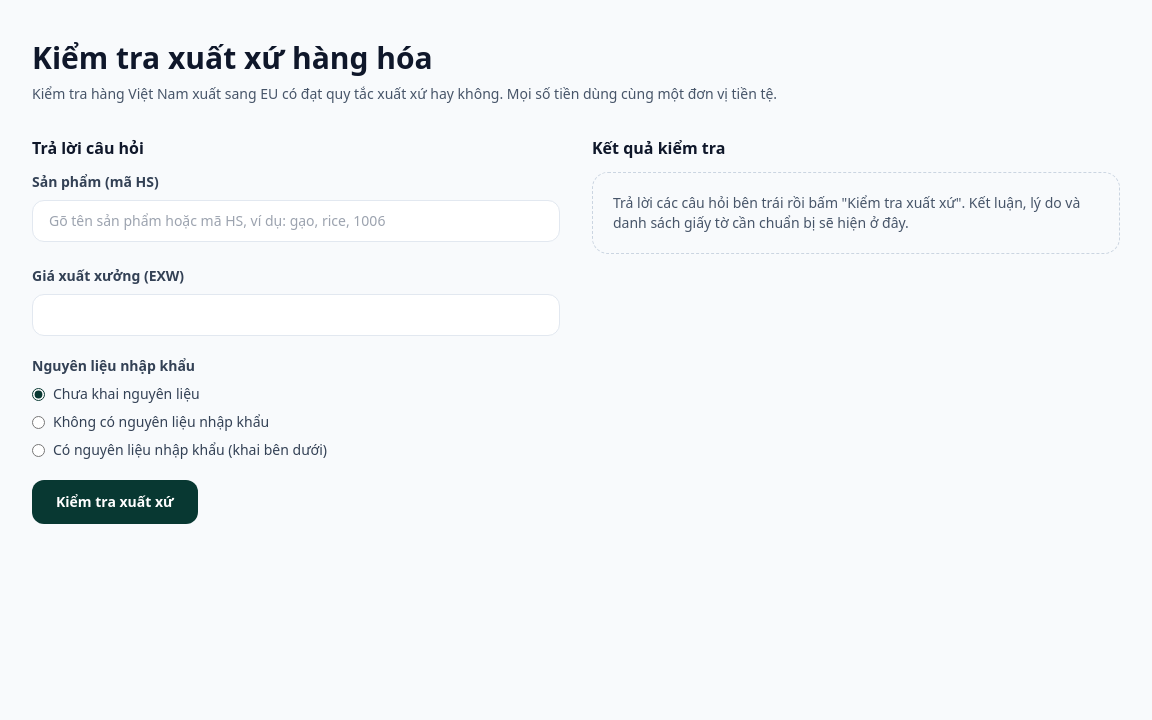
Test: Máy tính quy tắc xuất xứ (C4) › không có nguyên liệu nhập khẩu: materials_declared=true và danh sách rỗng
Type "ca phe" into the dropdown labelled "Sản phẩm (mã HS)" at point(296, 221), box [32, 200, 560, 242]
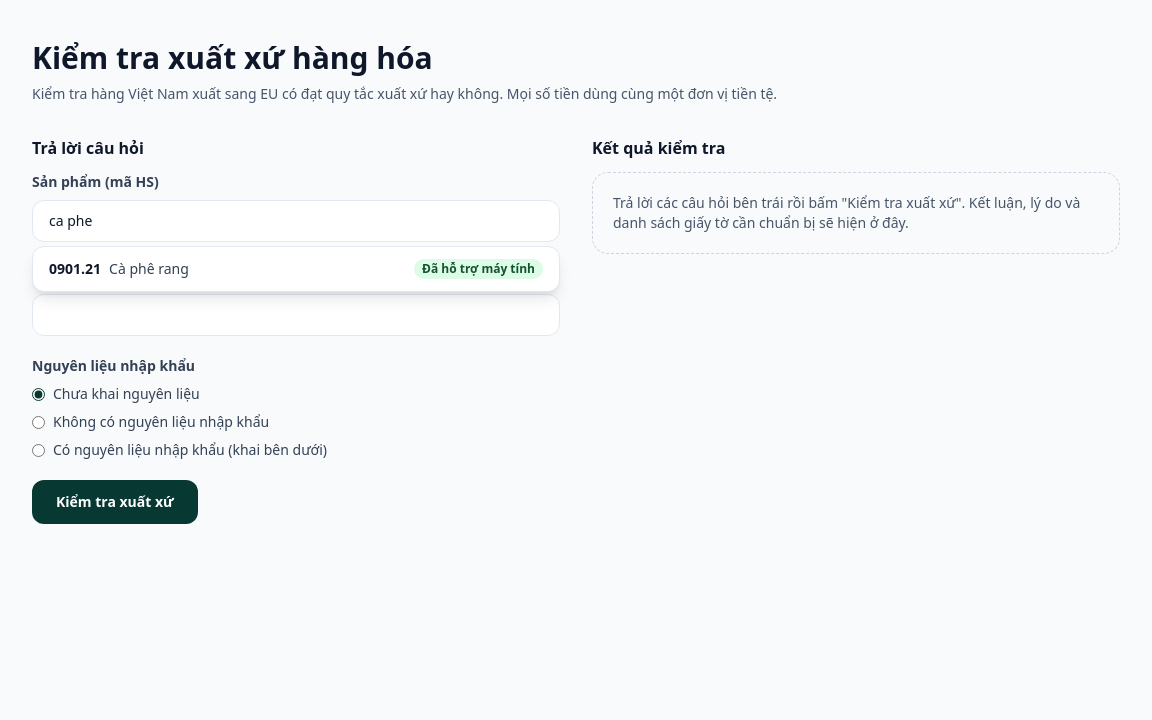
Click the option "0901.21Cà phê rang Đã hỗ trợ máy tính" at point(75, 268), box [49, 259, 543, 279]
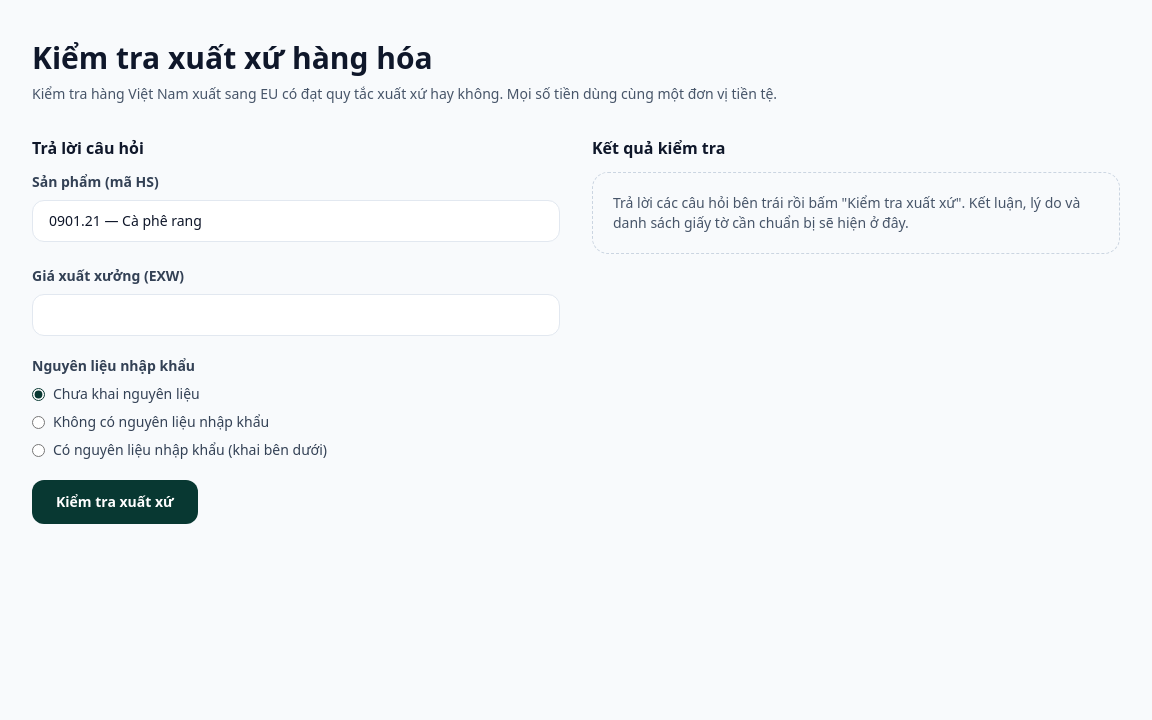
Type "1000" into the field labelled "Giá xuất xưởng (EXW)" at point(296, 315), box [32, 294, 560, 336]
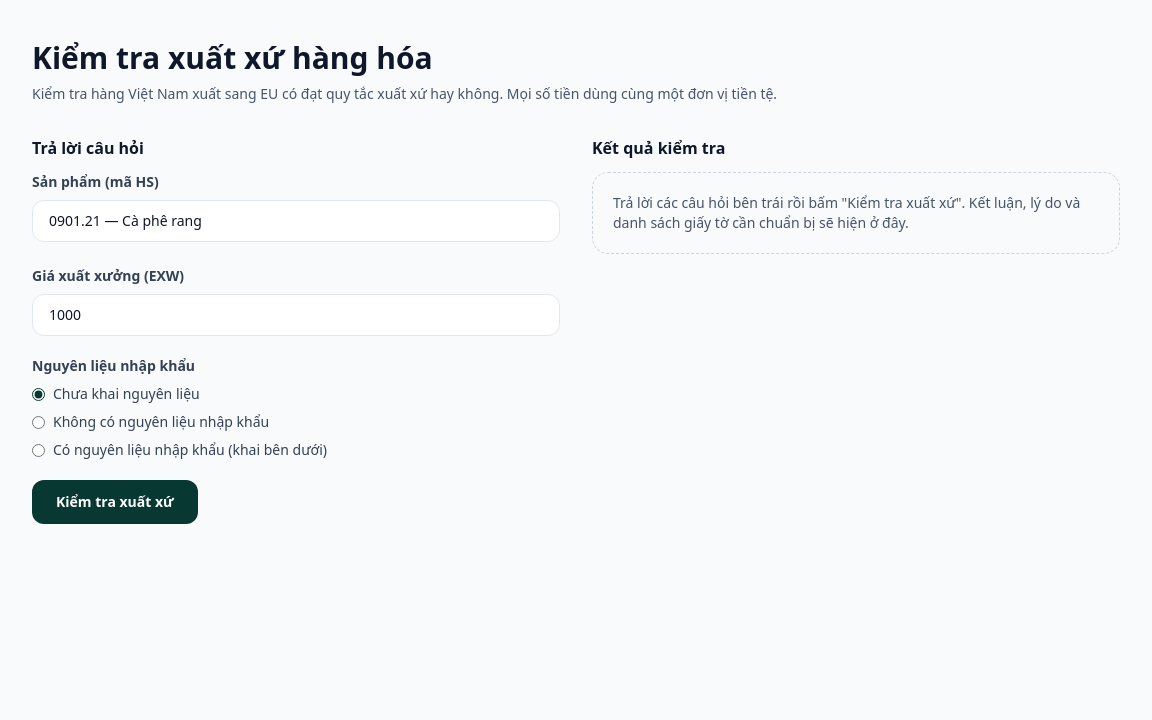
Click the radio button labelled "Không có nguyên liệu nhập khẩu" at point(38, 422), box [32, 416, 45, 428]
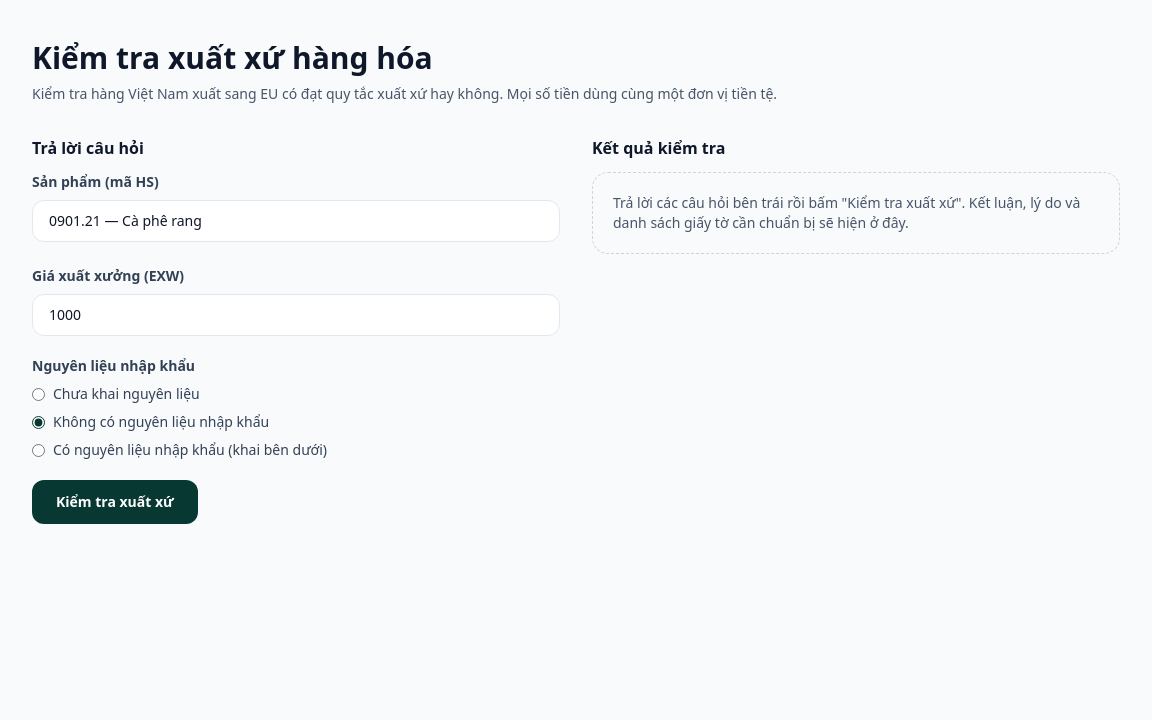
Click the button "Kiểm tra xuất xứ" at point(115, 502), box [32, 480, 198, 524]
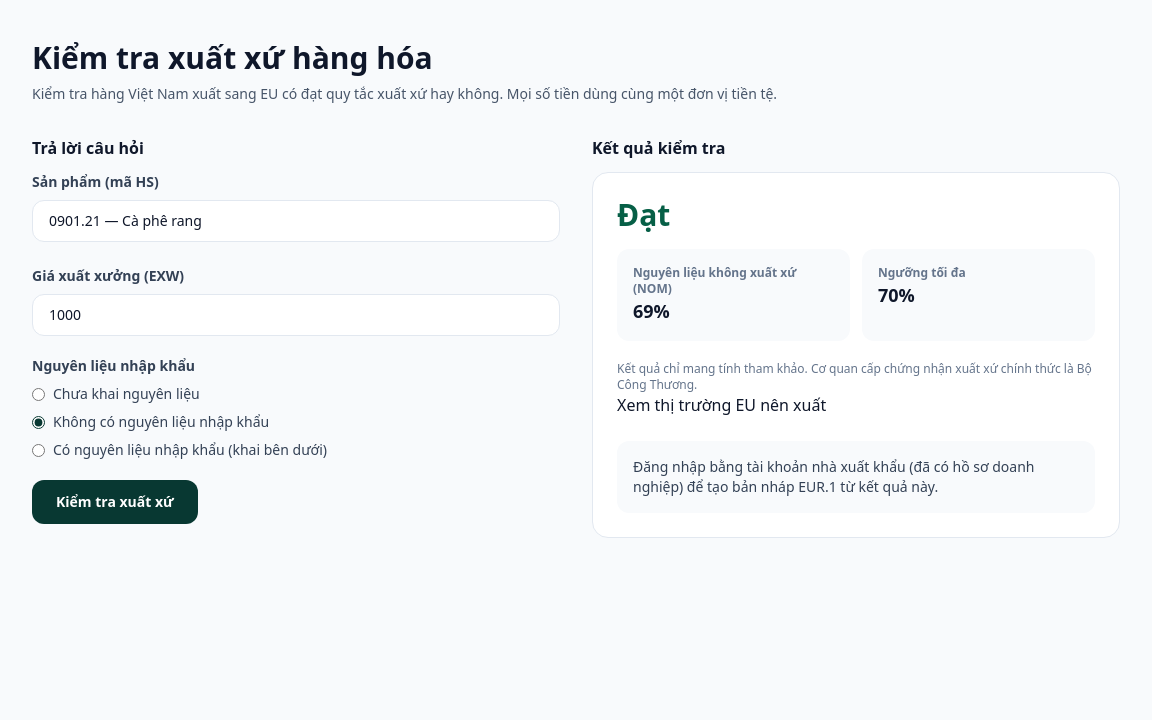
Expected: the element "Kết quả" is shown, [592, 172, 1120, 538]
